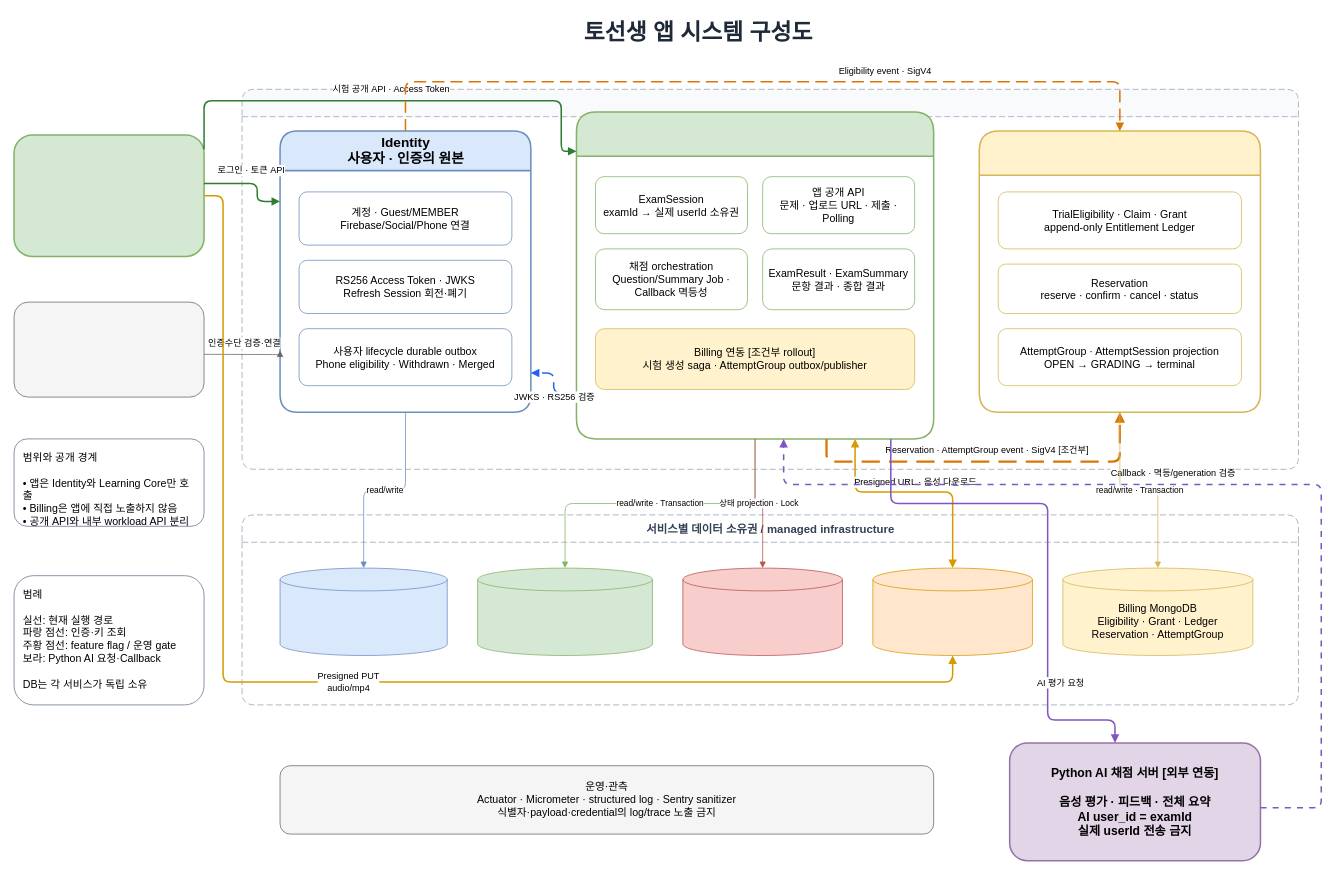
Some shapes in this 1341 by 874 pixel diagram are drawn without their labels. Here are the shapes that lost their labels. From the top down, the box of each, then its label:
(13, 134, 204, 257): 토선생 앱 사용자 UI · 녹음 Access Token 전송 userId 직접 전송 금지
(575, 111, 934, 439): Learning Core 시험 · 채점 · 결과의 원본
(241, 89, 1298, 469): AWS 앱 서버 / workload 영역
(978, 130, 1261, 413): Billing 혜택 · 사용권 · 원장의 원본
(13, 301, 204, 397): 외부 인증 Provider Firebase · SNS Identity가 계정과 연결
(279, 567, 447, 656): Identity MongoDB User · Identity · RefreshSession Outbox
(477, 567, 652, 656): Learning MongoDB ExamSession · Job · Result Operation · Outbox
(682, 567, 842, 656): Redis 기존 시험 상태 projection Lock 흐름
(872, 567, 1032, 656): AWS S3 Presigned PUT 사용자 음성 object
